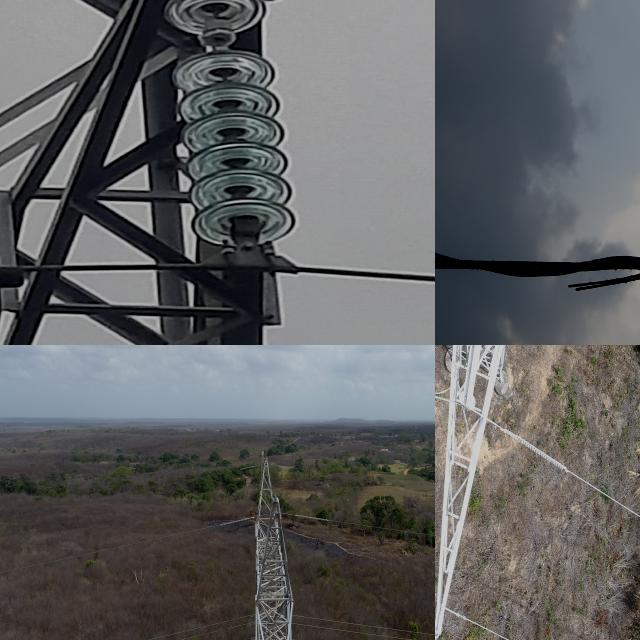杆塔: (0, 0, 297, 345), (435, 345, 505, 640), (246, 443, 308, 640)
正常绝缘子: (152, 0, 314, 274)
电缆破损: (435, 210, 640, 323)
绝缘子破损: (197, 22, 236, 46)
